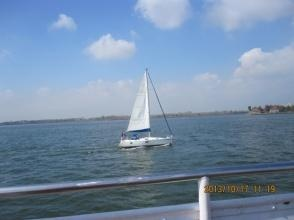fanchuan: (115, 67, 173, 149)
